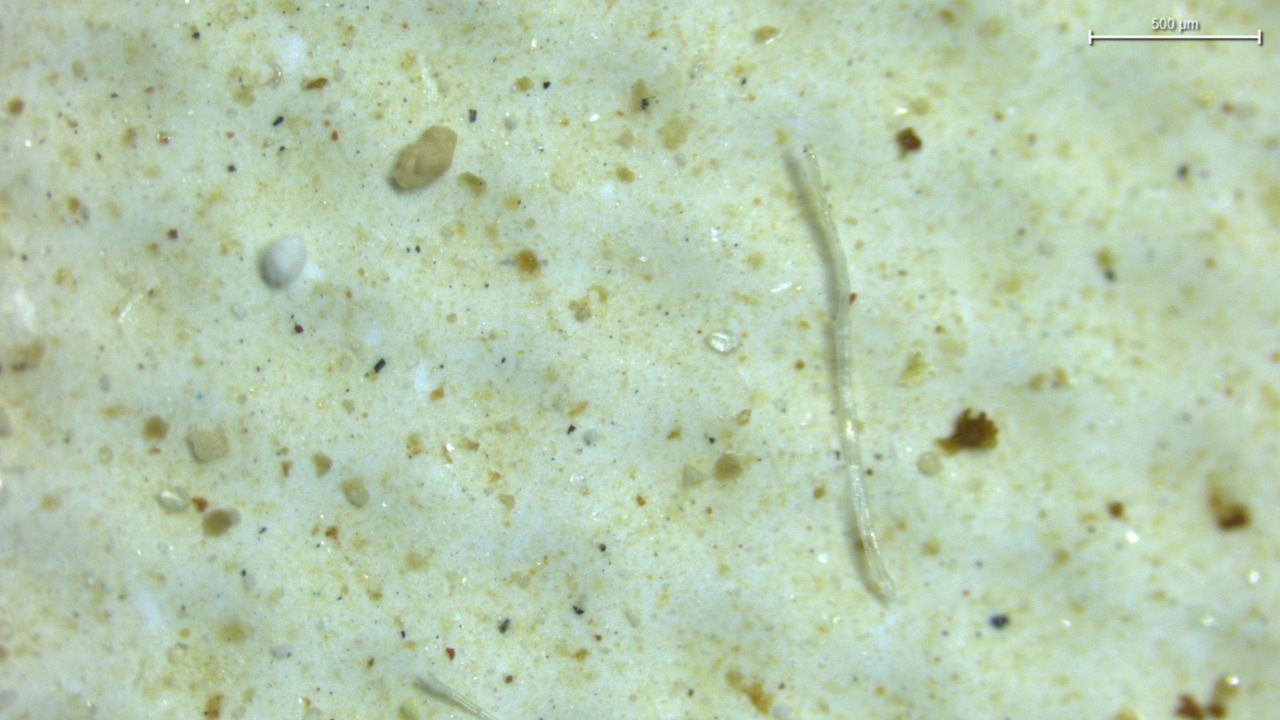microplastic_fragment: (392, 126, 456, 189), (260, 234, 306, 288), (707, 331, 738, 353)
